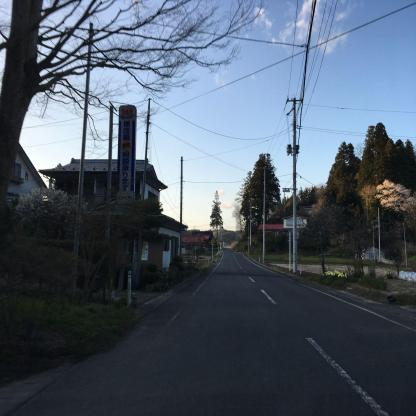Someiyoshino: (8, 180, 92, 226), (369, 174, 416, 235)
